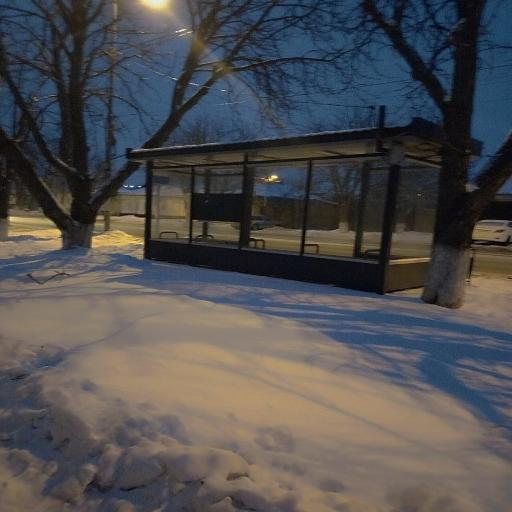book: (128, 118, 442, 293)
